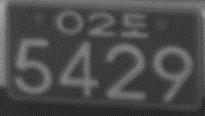0: (55, 8, 84, 36)
2: (104, 41, 147, 102), (87, 10, 117, 38)
4: (58, 40, 100, 99)
5: (13, 36, 53, 96)
9: (151, 43, 194, 103)
도: (119, 11, 150, 38)
